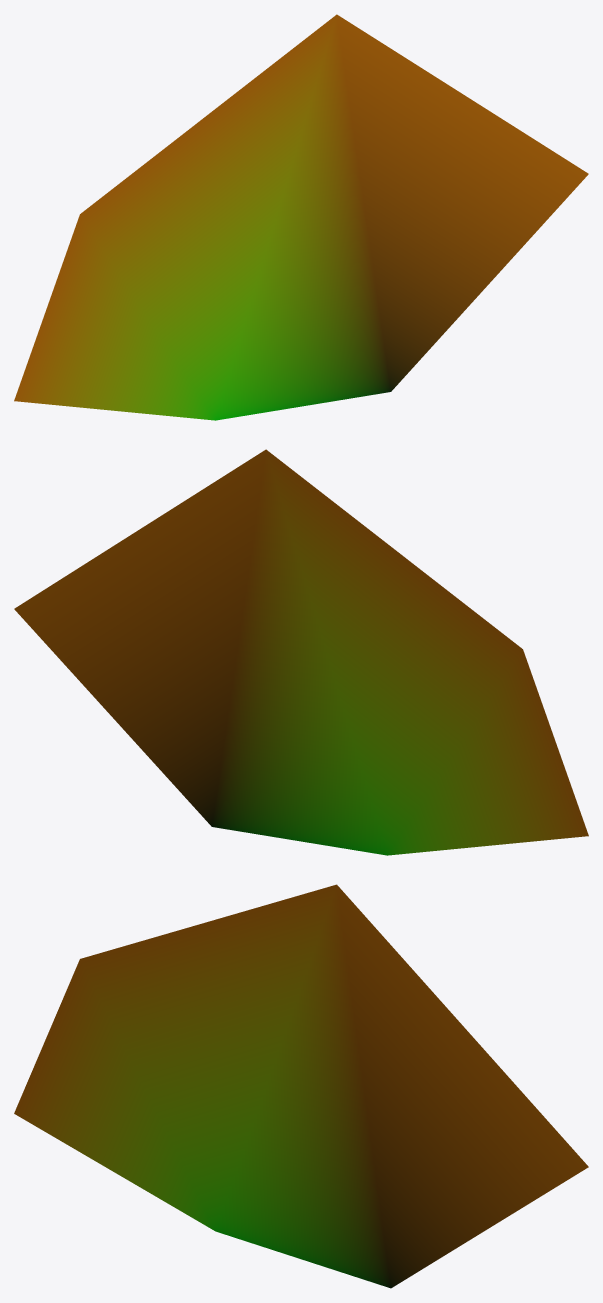
The model's file is Var1_LOD3.fbx.
The picture shows the model from 3 angles, top to bottom: view 1: azimuth 30°, elevation 25°; view 2: azimuth 150°, elevation 25°; view 3: azimuth 330°, elevation 25°; orthographic projection.
Visible parts, largest first — view 1: _817d_Var1_LOD3; view 2: _817d_Var1_LOD3; view 3: _817d_Var1_LOD3.
Part boxes in pixels (bbox=[...]): _817d_Var1_LOD3: bbox=[14, 14, 588, 420]; _817d_Var1_LOD3: bbox=[14, 449, 588, 855]; _817d_Var1_LOD3: bbox=[14, 884, 588, 1288].
Bounding box in the file's own units: 45.47 × 29.53 × 4.77e-06.
